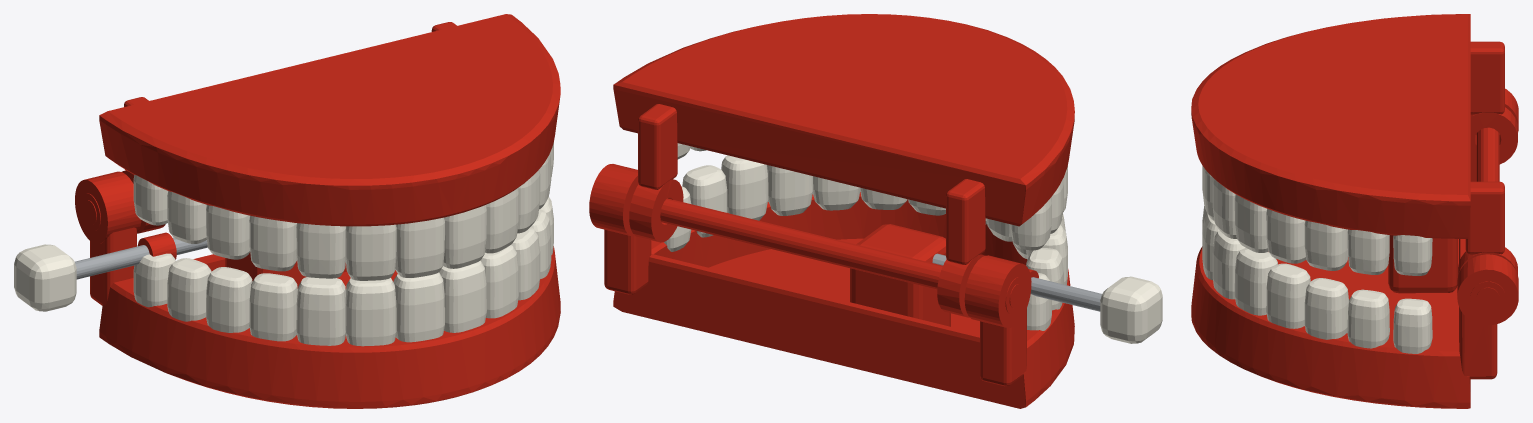
Rendered from NEW567_chattering_teeth_LOD2_v006.glb.
3 renders of one model, left to right at view 1: azimuth 30°, elevation 25°; view 2: azimuth 150°, elevation 25°; view 3: azimuth 270°, elevation 25°, orthographic. The views are drawn at different scales.
Visible parts, largest first — view 1: Moving_upper_jaw_hinge_ears, Fixed_lower_jaw_knob_and_axle; view 2: Fixed_lower_jaw_knob_and_axle, Moving_upper_jaw_hinge_ears; view 3: Moving_upper_jaw_hinge_ears, Fixed_lower_jaw_knob_and_axle.
Part boxes in pixels (x1,y1,x2,y2): Moving_upper_jaw_hinge_ears: (99, 14, 560, 280); Fixed_lower_jaw_knob_and_axle: (14, 171, 560, 408); Fixed_lower_jaw_knob_and_axle: (589, 155, 1162, 408); Moving_upper_jaw_hinge_ears: (613, 14, 1074, 317); Moving_upper_jaw_hinge_ears: (1191, 14, 1517, 275); Fixed_lower_jaw_knob_and_axle: (1191, 88, 1518, 408).
Bounding box in the file's own units: 0.0793 × 0.0338 × 0.0469.
